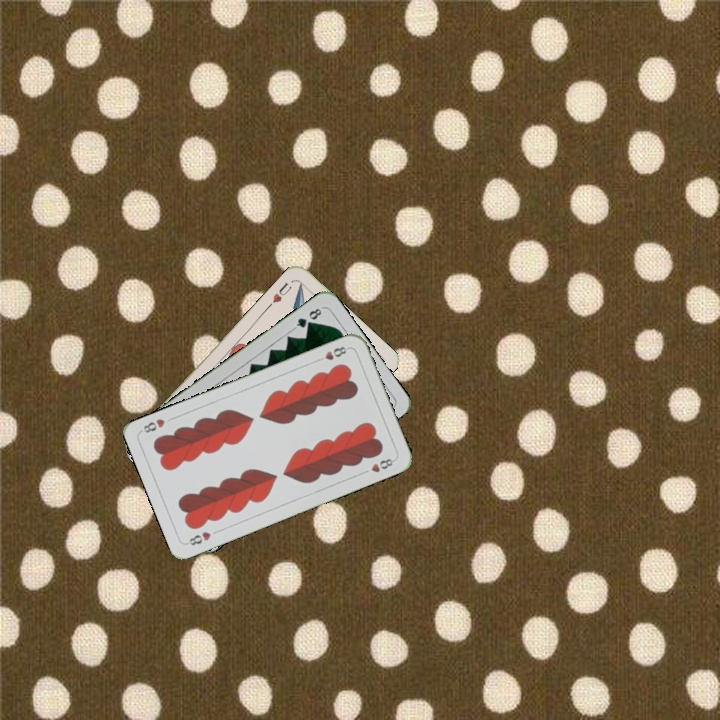G8: (290, 304, 325, 332)
H8: (313, 342, 352, 364), (183, 527, 214, 548)
HU: (268, 278, 295, 305)
